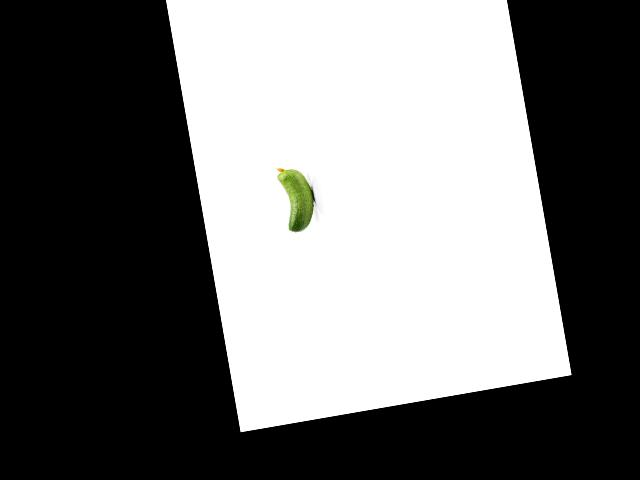cucumber: (275, 162, 319, 234)
